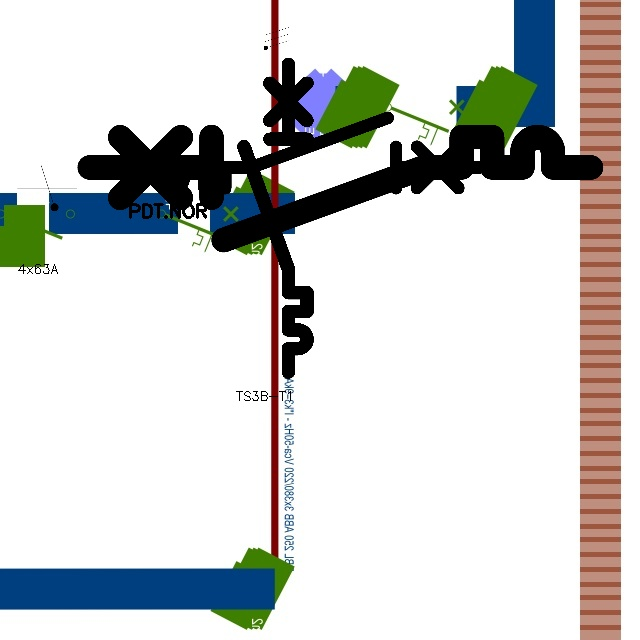interruptor_termomagnetico: (76, 124, 604, 253), (128, 109, 488, 197), (236, 56, 315, 380)
